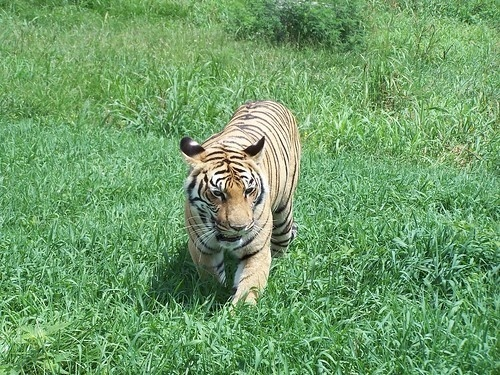tigre: (172, 97, 308, 314)
